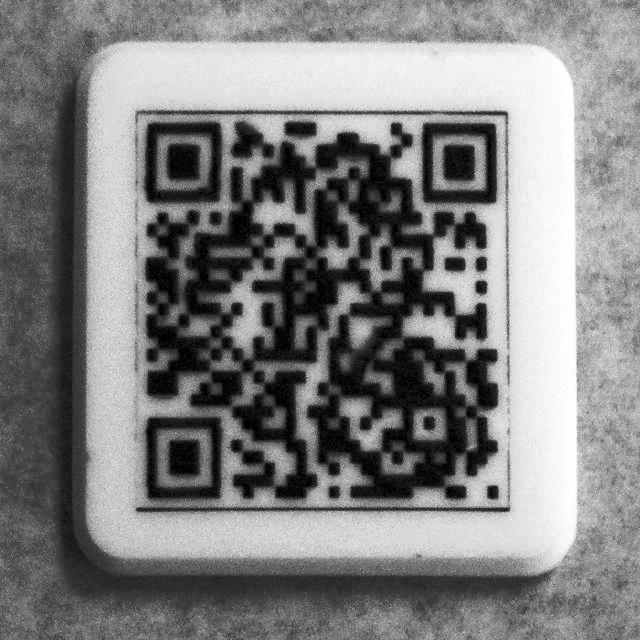qr_code: (147, 124, 498, 498)
